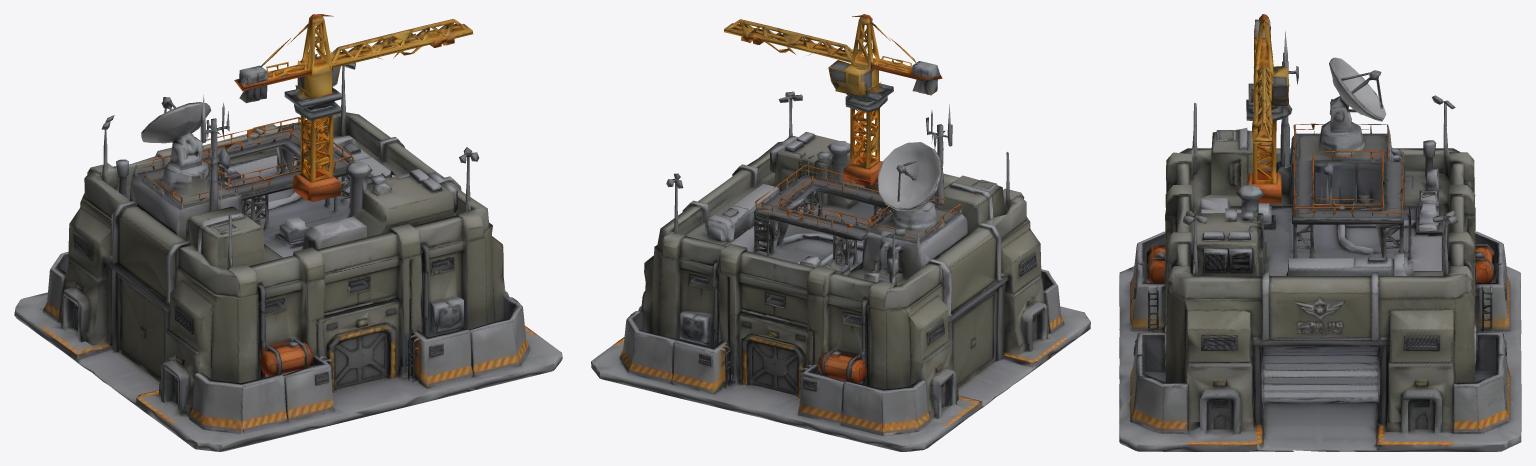
Rendered from conyard.glb.
3 renders of one model, left to right at view 1: azimuth 30°, elevation 25°; view 2: azimuth 150°, elevation 25°; view 3: azimuth 270°, elevation 25°, orthographic. The views are drawn at different scales.
Visible parts, largest first — view 1: tripo_node_b8386151-1017-442a-abba-224969a57707; view 2: tripo_node_b8386151-1017-442a-abba-224969a57707; view 3: tripo_node_b8386151-1017-442a-abba-224969a57707.
Part boxes in pixels (<box>): tripo_node_b8386151-1017-442a-abba-224969a57707: <box>14,14,562,451</box>; tripo_node_b8386151-1017-442a-abba-224969a57707: <box>591,14,1090,451</box>; tripo_node_b8386151-1017-442a-abba-224969a57707: <box>1119,14,1521,451</box>.
Bounding box in the file's own units: 0.9777 × 0.8788 × 0.9237.
Materials: 1 (1 with a texture image).
